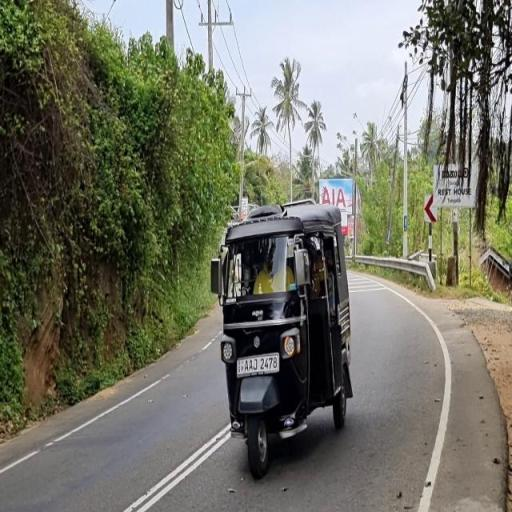double_white_line: (122, 421, 232, 511)
